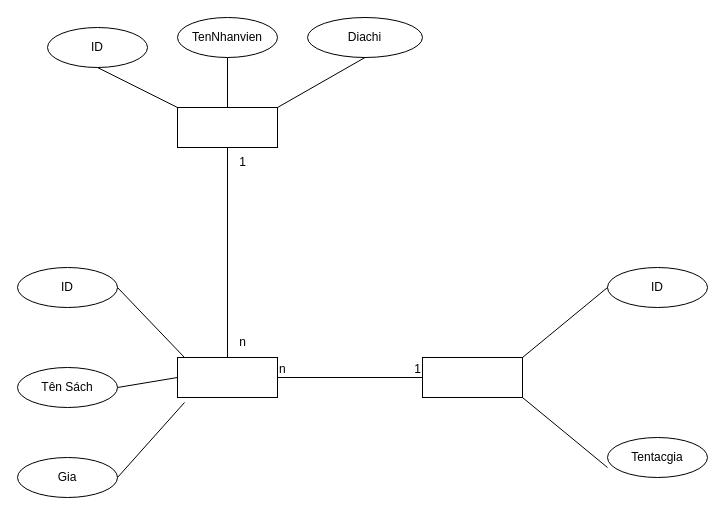
Some shapes in this 725 by 515 pixel diagram are drawn without their labels. The shapes that lost their labels are listed below. From the top down, each one's centre as x and y in pixels, then its label:
At (x=227, y=127): "Nhan Vien".
At (x=227, y=377): "Sách".
At (x=472, y=377): "Tác Gỉa".
